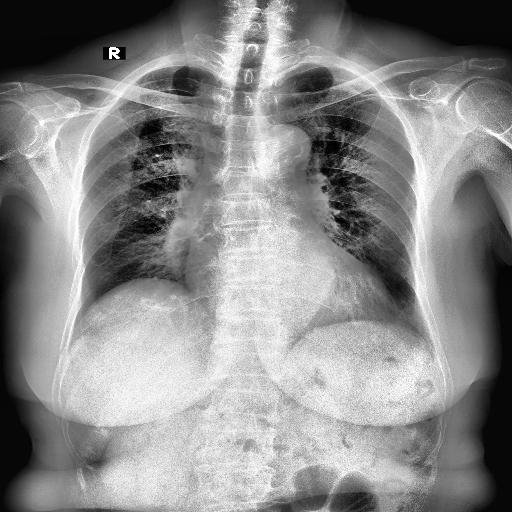0- Aortic enlargement: (250, 122, 314, 170), (258, 122, 312, 172), (268, 124, 312, 162)
3- Cardiomegaly: (184, 242, 390, 322), (184, 260, 396, 321), (182, 269, 398, 321)
